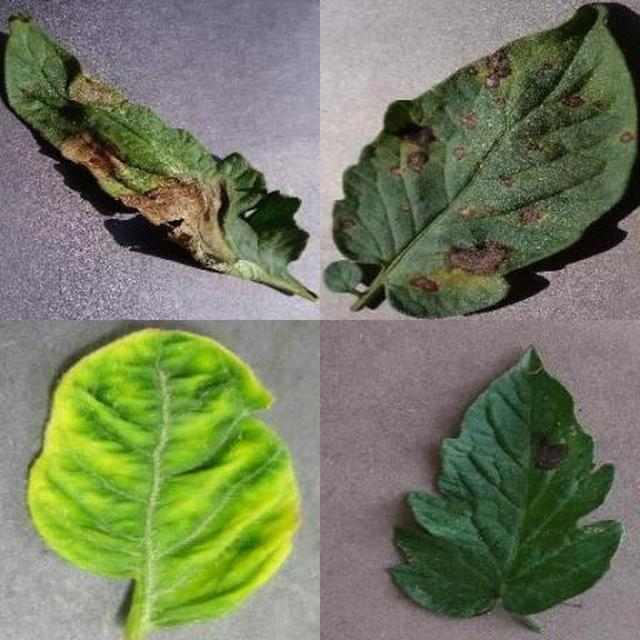Late Blight Leaf: (229, 223, 640, 640)
